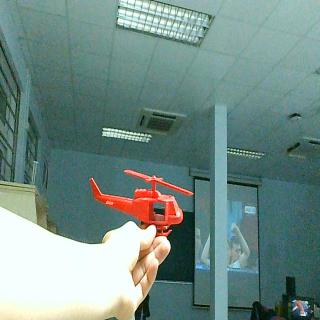Helicopter: (88, 167, 195, 238)
